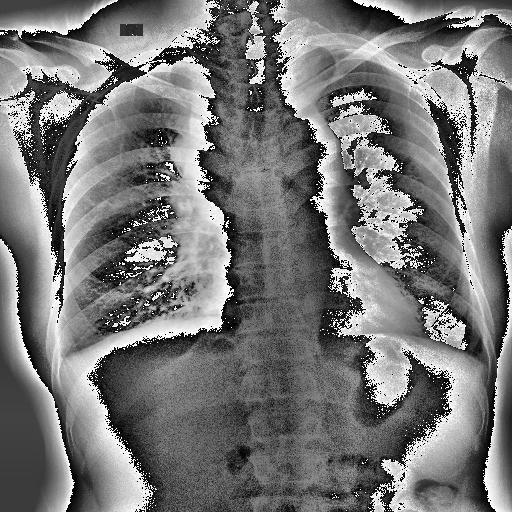0- Aortic enlargement: (272, 118, 344, 198)
10- Pleural effusion: (46, 346, 80, 366), (473, 349, 497, 374), (52, 352, 74, 374), (476, 347, 494, 372), (54, 352, 76, 372)
11- Pleural thickening: (46, 346, 80, 366), (473, 349, 497, 374), (52, 352, 74, 374), (476, 347, 494, 372), (54, 352, 76, 372)
7- Lung Opacity: (184, 94, 344, 212)
8- Nodule-Mass: (184, 94, 344, 212), (182, 110, 350, 220)
9- Other lesion: (182, 110, 350, 220), (168, 133, 226, 214)
